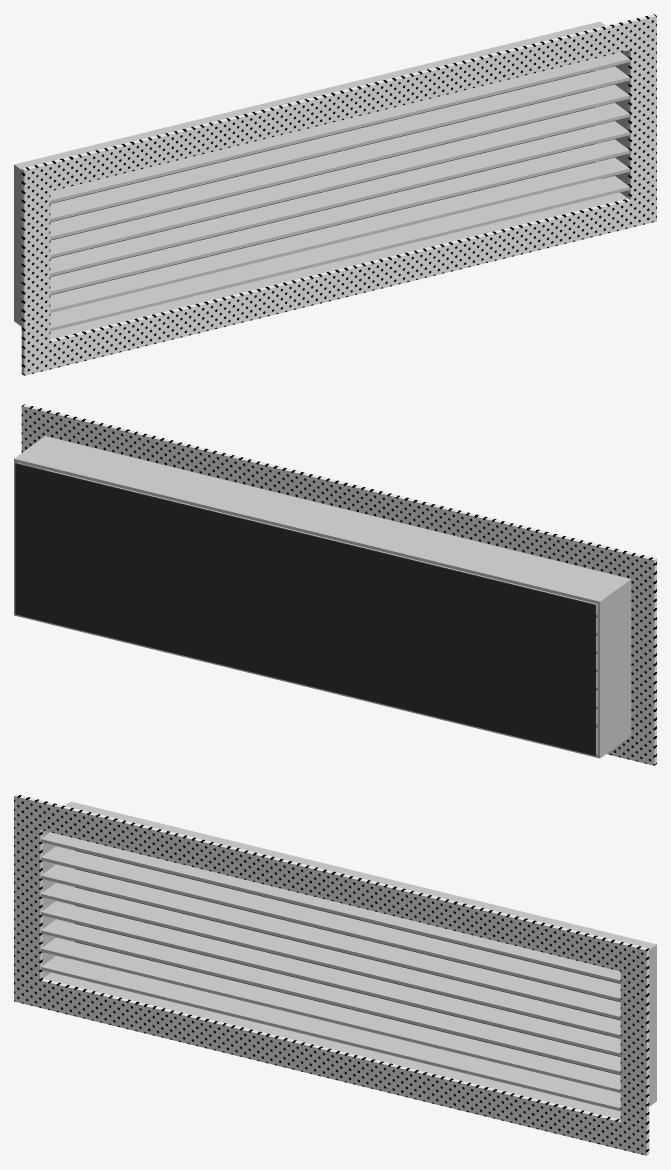
File: ecoclima-ebls-400x100.glb
The picture shows the model from 3 angles, top to bottom: view 1: azimuth 30°, elevation 25°; view 2: azimuth 150°, elevation 25°; view 3: azimuth 330°, elevation 25°; orthographic projection.
Parts seen in each view (by area): view 1: Profile_cornice, Profile_cornice.001, Profile_barra.003, Profile_barra.006, Profile_barra, Profile_barra.002, Profile_barra.004, Profile_barra.005, Profile_barra.001, Profile_barra.007, Profile_ritorno.001, Profile_cornice.002 (+5 smaller); view 2: Interno, Profile_ritorno, Profile_cornice, Profile_ritorno.002, Profile_cornice.002, Profile_ritorno.001, Profile_cornice.001, Profile_barra.006; view 3: Profile_cornice, Profile_cornice.001, Profile_barra.003, Profile_barra.006, Profile_barra, Profile_barra.002, Profile_barra.004, Profile_barra.005, Profile_barra.001, Profile_barra.007, Profile_ritorno.001, Profile_cornice.003 (+5 smaller).
Boxes of the visible parts, x1,y1,x2,y2 form: Profile_cornice: (21, 14, 656, 197); Profile_cornice.001: (21, 194, 656, 375); Profile_barra.003: (50, 121, 629, 276); Profile_barra.006: (50, 66, 629, 221); Profile_barra: (50, 176, 629, 331); Profile_barra.002: (50, 139, 629, 294); Profile_barra.004: (50, 103, 629, 258); Profile_barra.005: (50, 84, 629, 239); Profile_barra.001: (50, 157, 629, 312); Profile_barra.007: (50, 52, 629, 203); Profile_ritorno.001: (14, 179, 627, 339); Profile_cornice.002: (21, 191, 50, 348); Interno: (15, 463, 596, 755); Profile_ritorno: (14, 436, 631, 604); Profile_cornice: (21, 404, 656, 587); Profile_ritorno.002: (597, 582, 631, 755); Profile_cornice.002: (631, 582, 656, 738); Profile_ritorno.001: (14, 612, 631, 758); Profile_cornice.001: (607, 733, 656, 765); Profile_barra.006: (45, 469, 597, 617); Profile_cornice: (14, 794, 649, 977); Profile_cornice.001: (14, 974, 649, 1155); Profile_barra.003: (41, 901, 620, 1056); Profile_barra.006: (41, 846, 620, 1001); Profile_barra: (41, 956, 620, 1111); Profile_barra.002: (41, 919, 620, 1074); Profile_barra.004: (41, 883, 620, 1038); Profile_barra.005: (41, 864, 620, 1019); Profile_barra.001: (41, 937, 620, 1092); Profile_barra.007: (41, 832, 620, 983); Profile_ritorno.001: (43, 959, 656, 1119); Profile_cornice.003: (620, 971, 649, 1128).
Size of the model in its own units: 0.435 by 0.135 by 0.042.
Materials: 3 (1 with a texture image).
